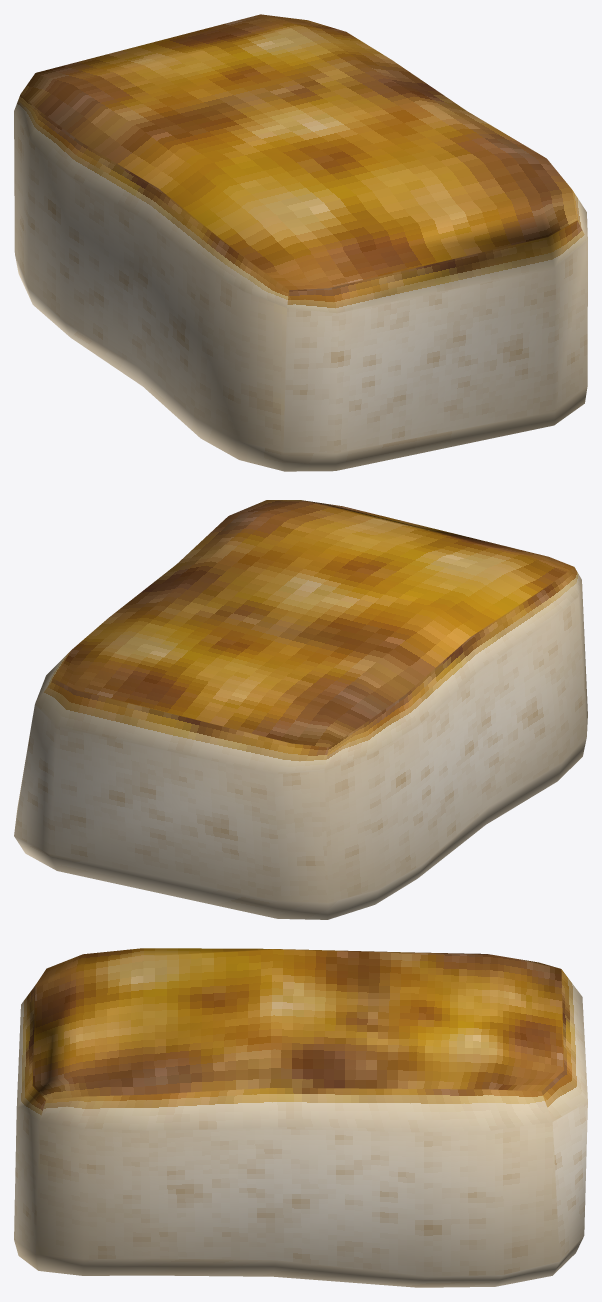
The model's file is H_FocacciaPiece.fbx.
The picture shows the model from 3 angles, top to bottom: view 1: azimuth 30°, elevation 25°; view 2: azimuth 150°, elevation 25°; view 3: azimuth 270°, elevation 25°; orthographic projection. The views are drawn at different scales.
Visible parts, largest first — view 1: Lasagna.003; view 2: Lasagna.003; view 3: Lasagna.003.
Boxes of the visible parts, box(x1,y1,x2,y2) form: Lasagna.003: box(14, 14, 587, 471); Lasagna.003: box(14, 500, 587, 919); Lasagna.003: box(14, 948, 587, 1287).
Size of the model in its own units: 15.02 by 8.18 by 20.61.
